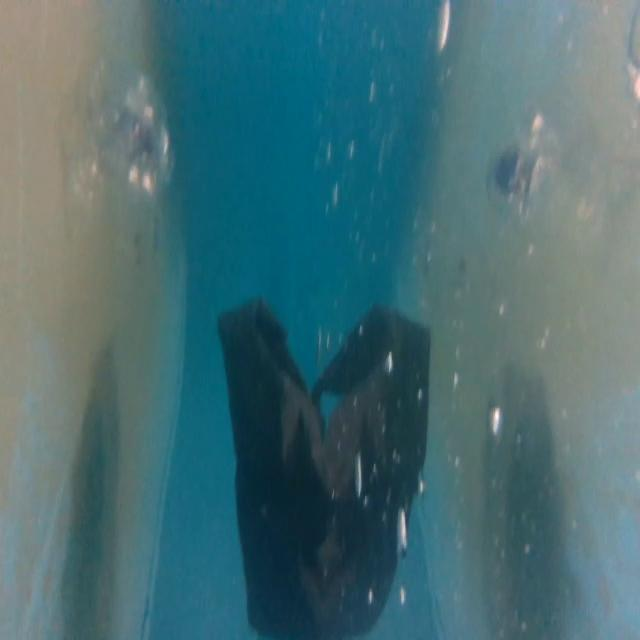plastic bags: (213, 291, 431, 640)
